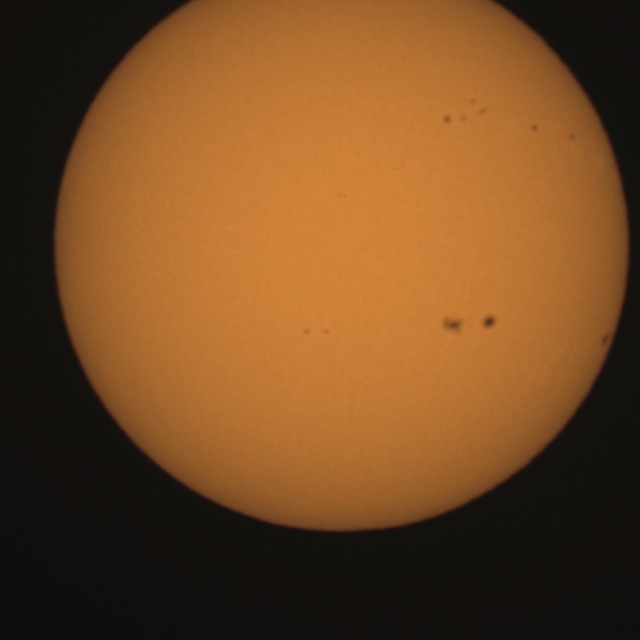sunspot: (439, 312, 501, 336), (440, 101, 486, 127), (440, 314, 467, 338), (462, 97, 488, 119), (442, 110, 474, 125), (480, 313, 498, 332), (600, 332, 611, 348), (566, 132, 578, 143), (442, 114, 452, 126), (335, 191, 348, 200), (530, 123, 540, 134), (302, 326, 312, 336), (322, 327, 331, 336)
